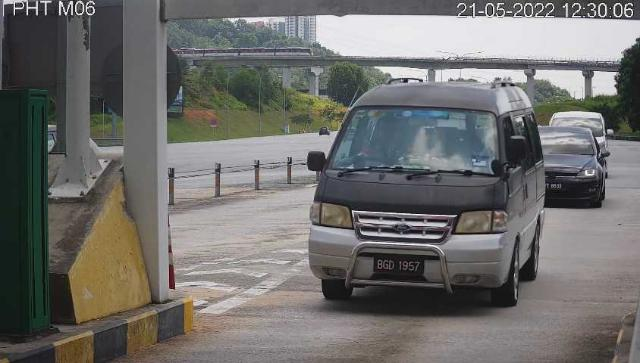License_Plate: (373, 253, 428, 283)
van: (310, 83, 546, 308)
